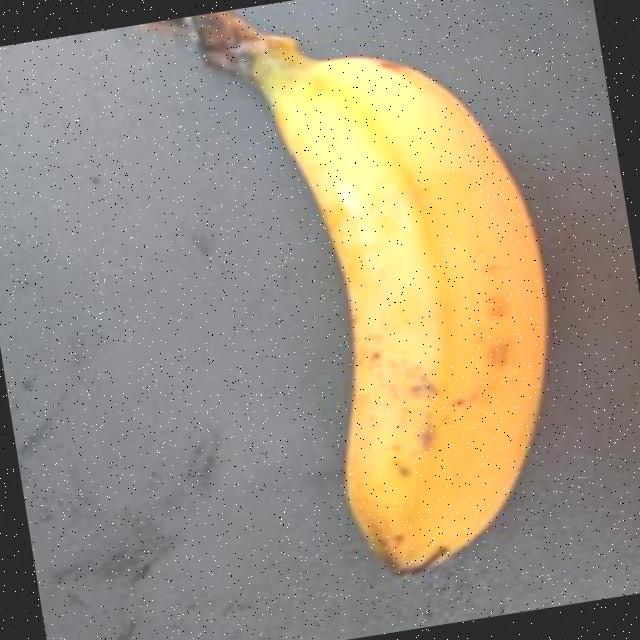Ripe: (157, 0, 609, 613)
